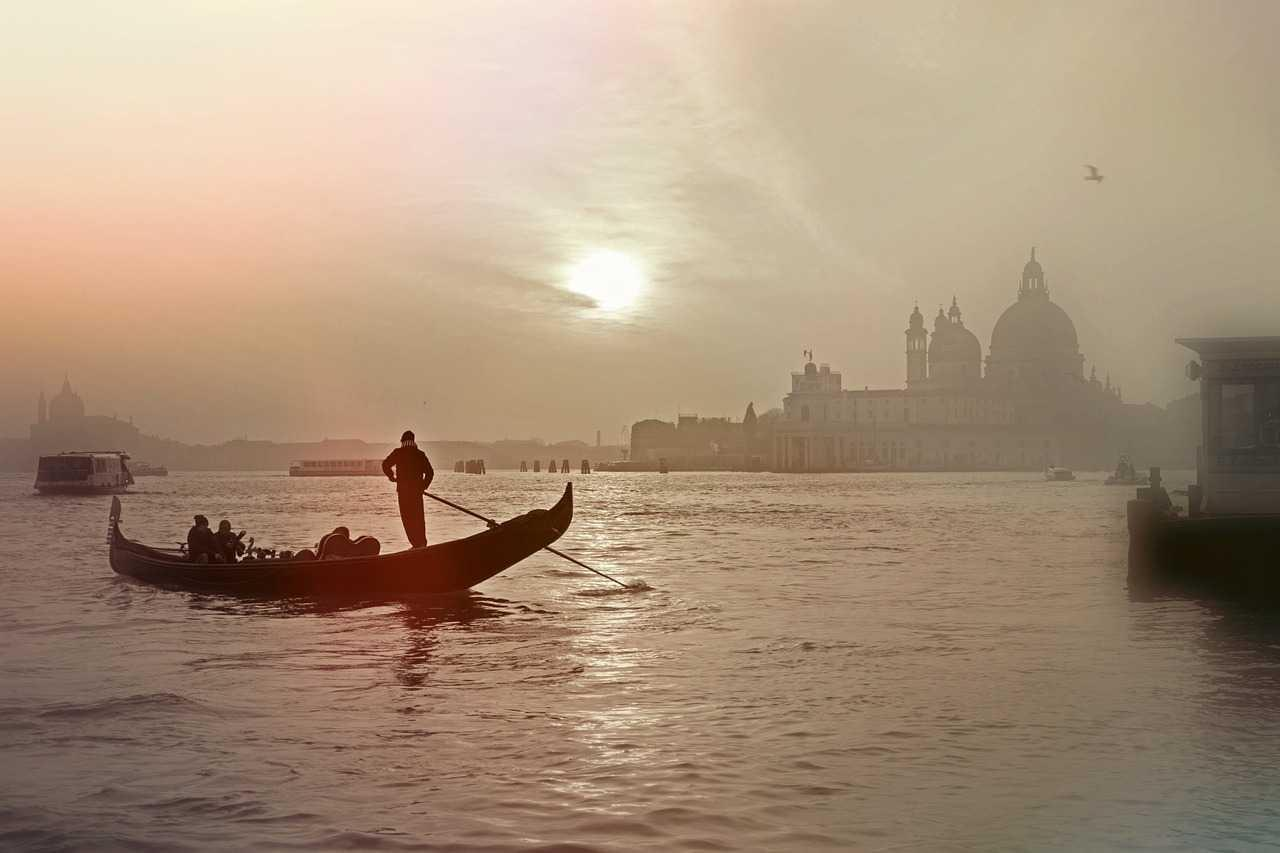kayak: (106, 482, 574, 602), (1126, 335, 1279, 602), (33, 449, 139, 495), (289, 458, 393, 478), (1103, 453, 1138, 485), (128, 460, 169, 478), (1044, 466, 1076, 480)
